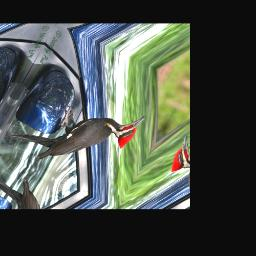Woodpecker: (0, 68, 147, 191)
